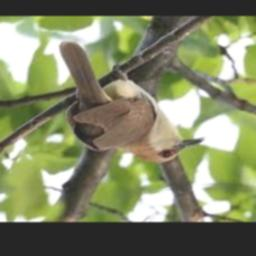Cuckoo: (60, 41, 203, 164)
